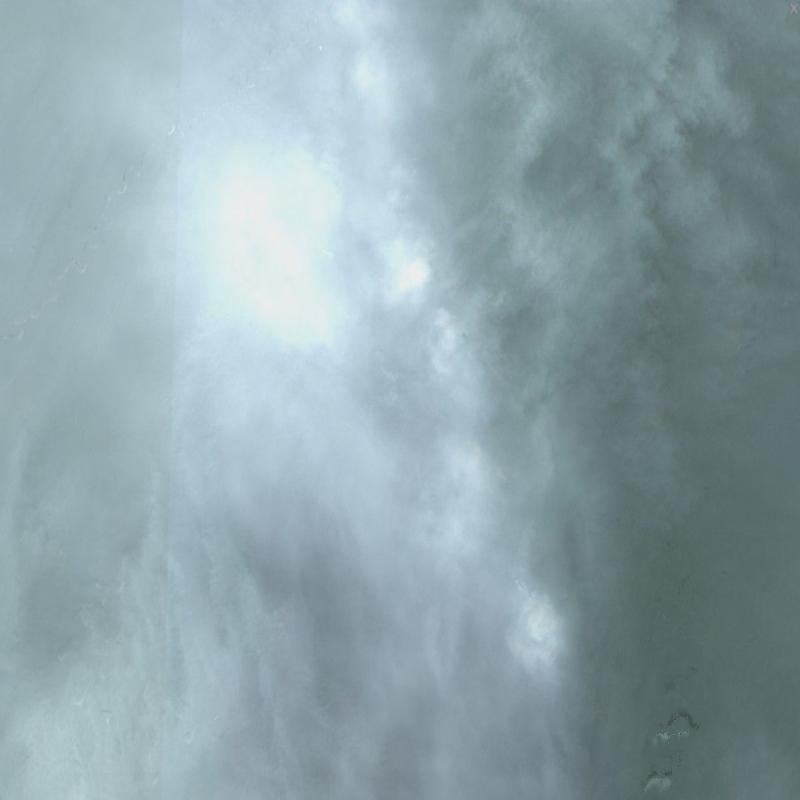fire: (292, 0, 567, 682)
